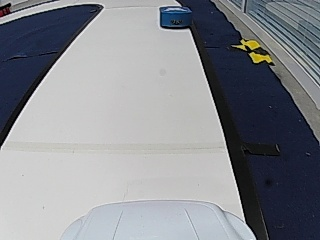prop: (160, 6, 192, 29)
